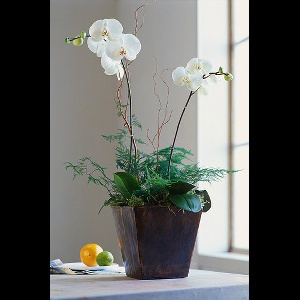flowerpot: (111, 187, 203, 280)
